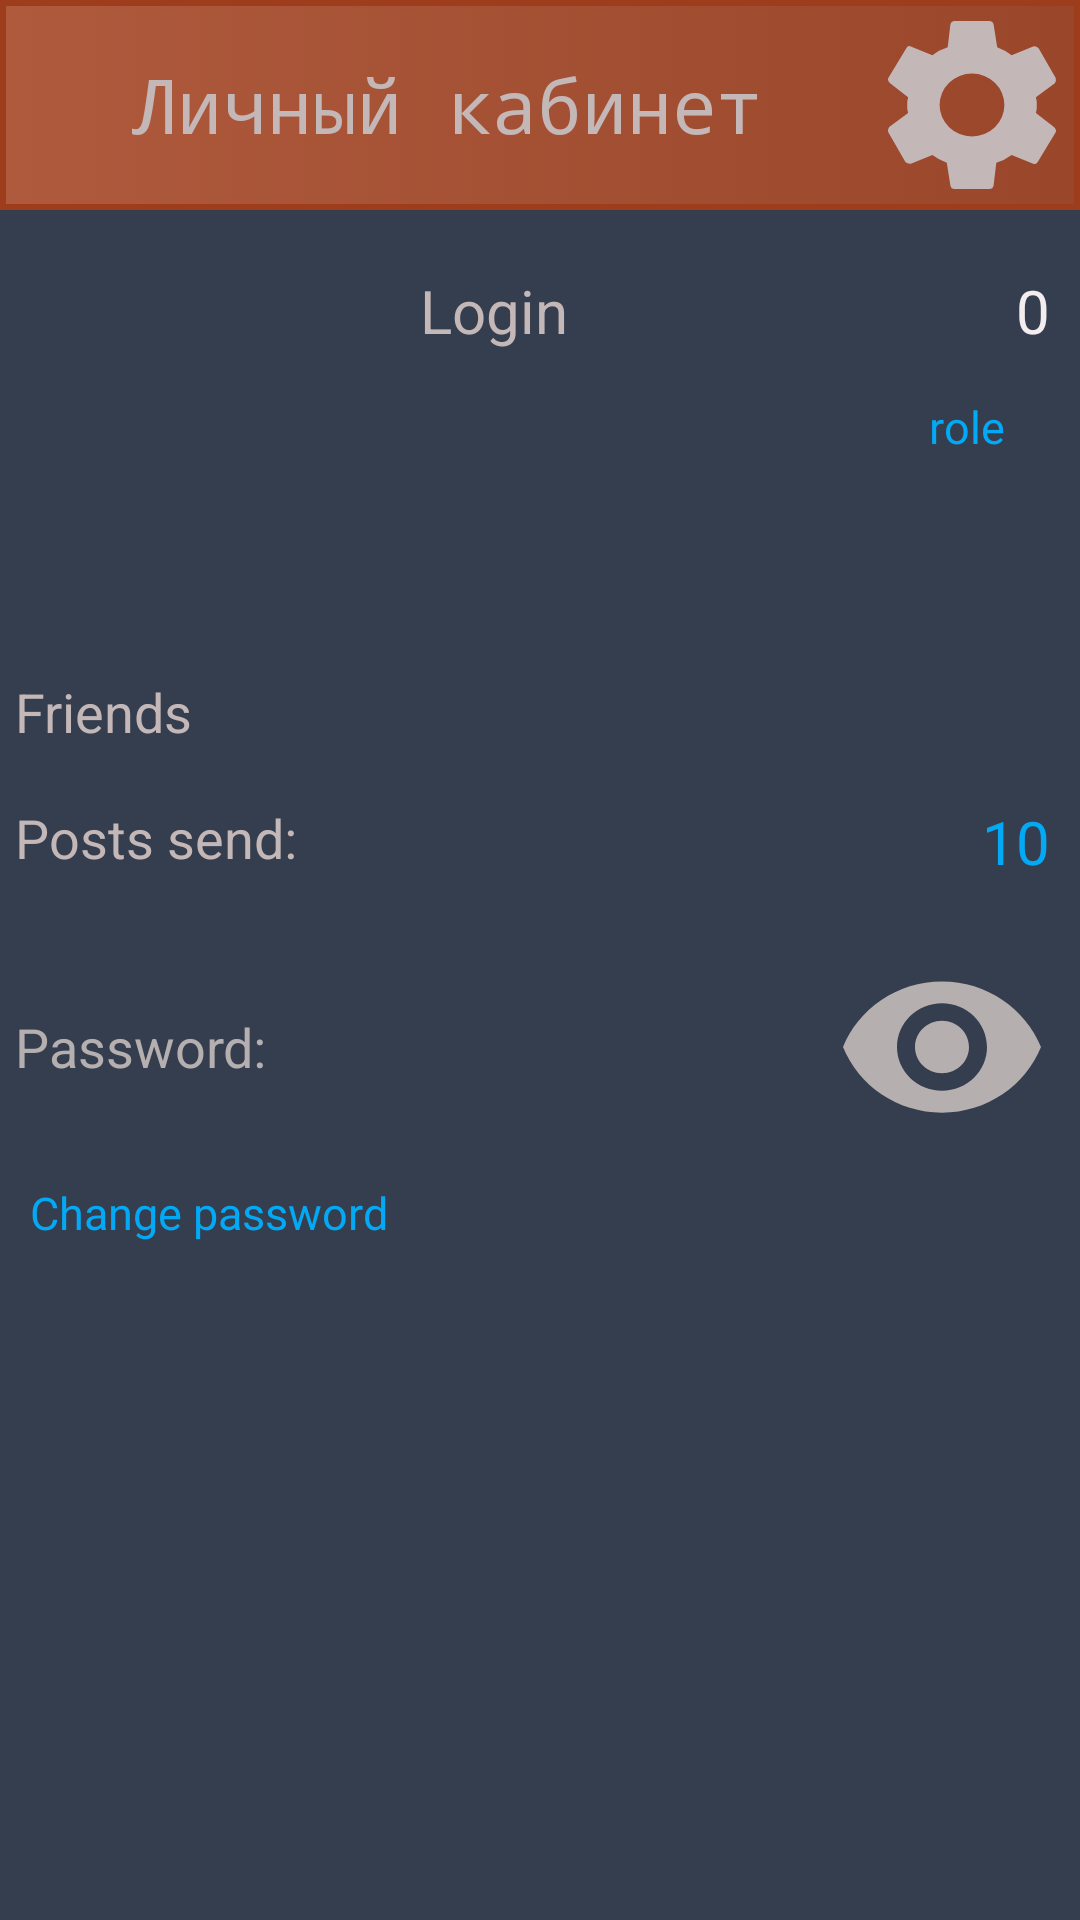

Icons on this 1080×1920 Android screen, each with the point to tap as point (x, y):
settings: point (972, 105)
visibility unactive: point (942, 1047)
